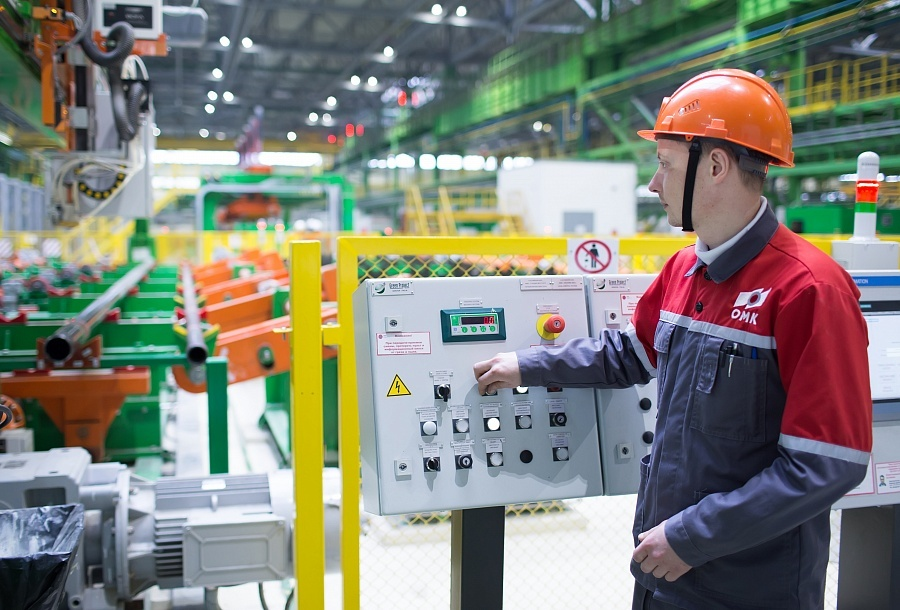person: (473, 68, 874, 610)
